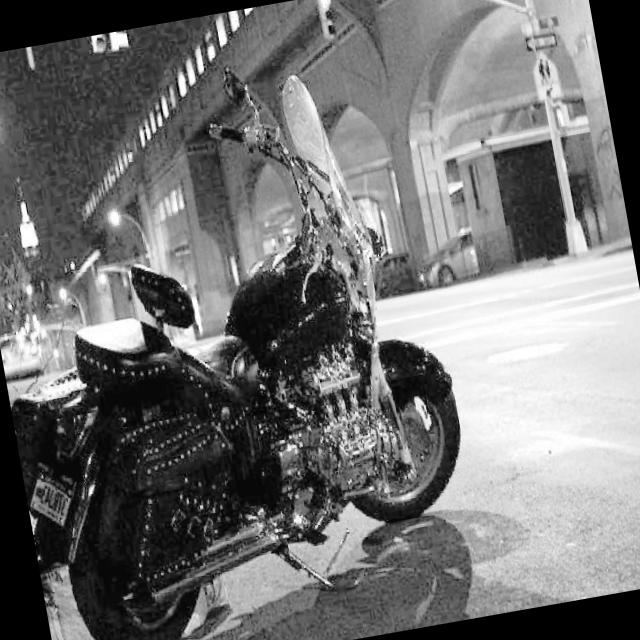Motorcycle: (0, 53, 509, 640)
